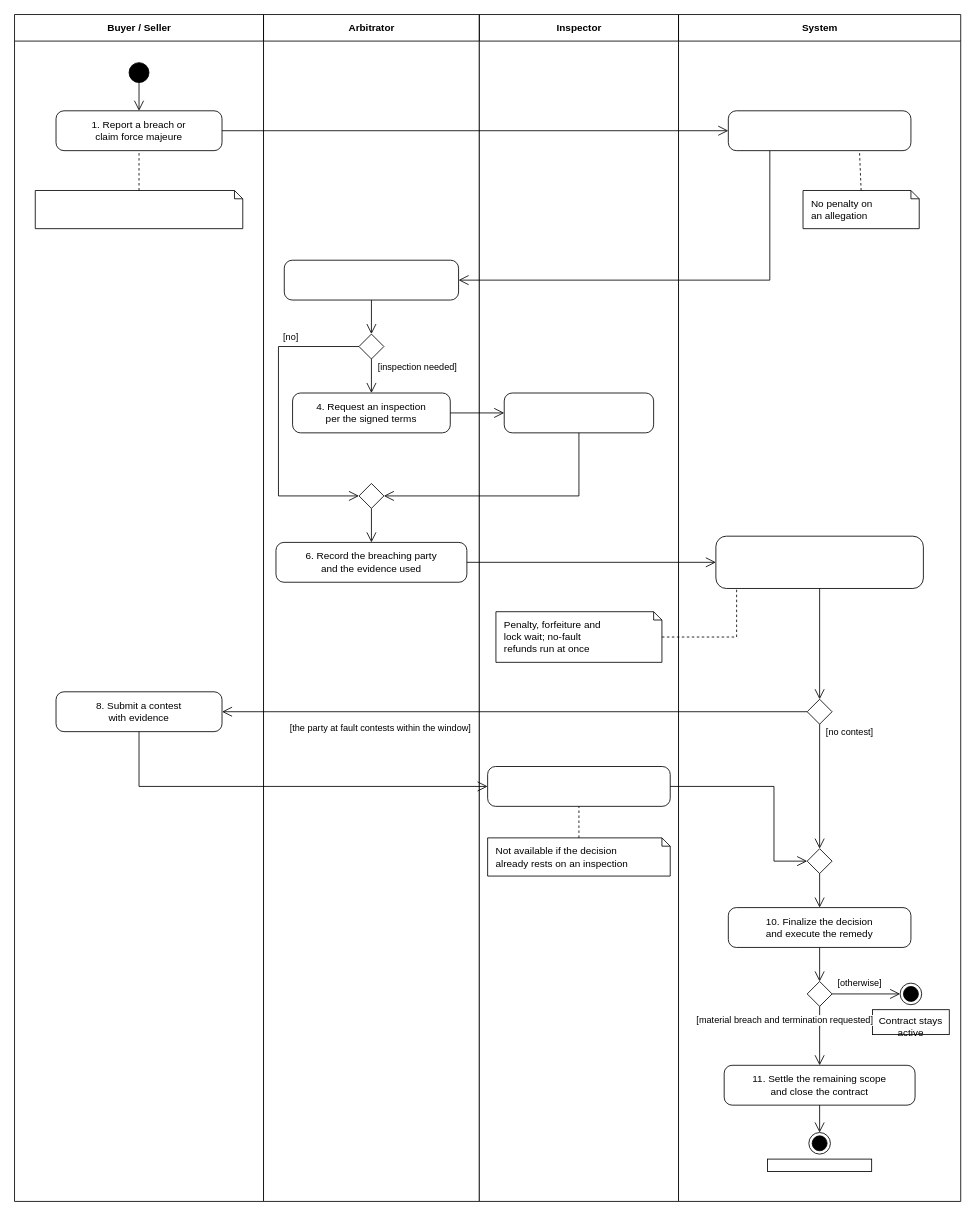
Some shapes in this 975 by 1216 pixel diagram are drawn without their labels. Here are the shapes that lost their labels. From the top down, the centre of each, then its label:
point 819,130: 2. Record the case and notify the other party
point 138,209: Or the System detects a missed obligation, e.g. funding not cured
point 371,279: 3. Review the evidence against the signed terms
point 578,412: 5. Inspect and submit a report
point 819,561: 7. Notify the parties and open the 2-business-day contest window
point 578,786: 9. Level 1.5 reviews the case; the decision is final
point 819,1165: Contract terminated
